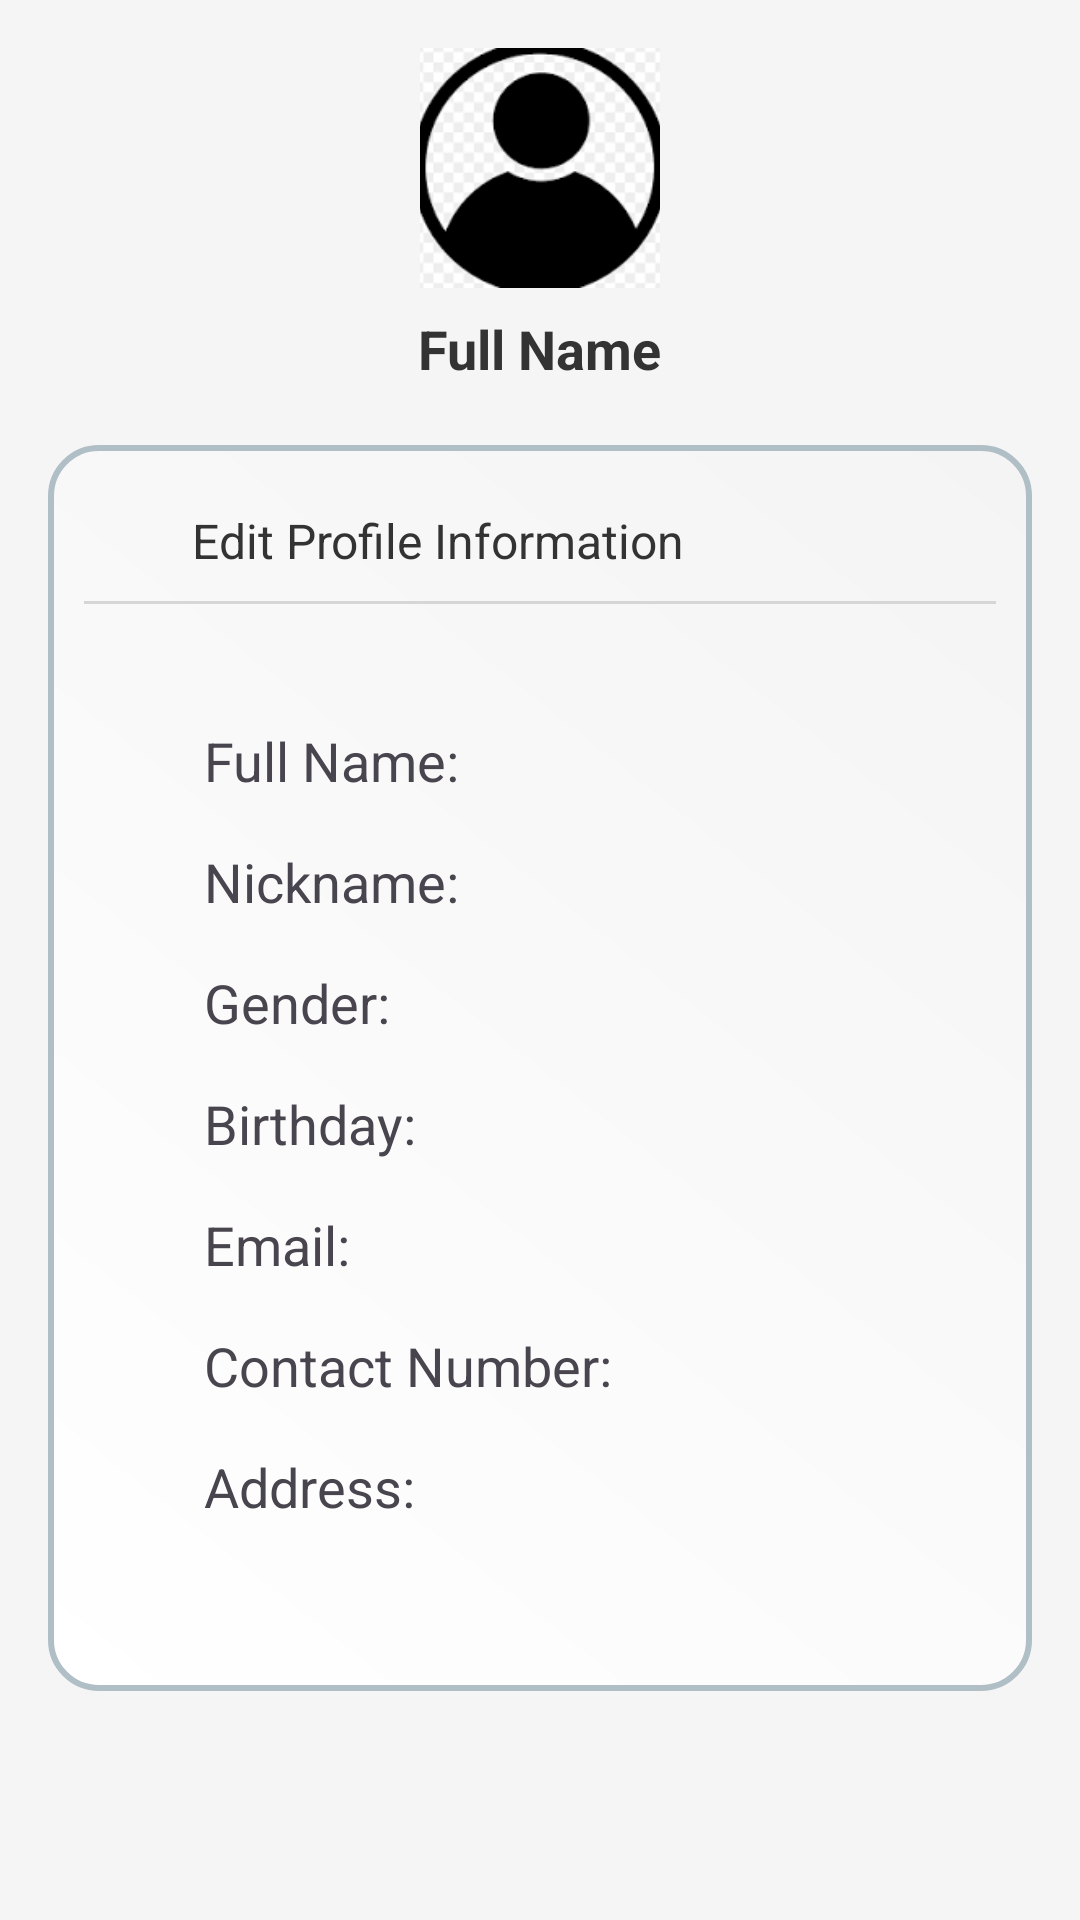

Icons on this 1080*1920 Android screen, each with the point to tap as (x,y):
profile: (540,168)
